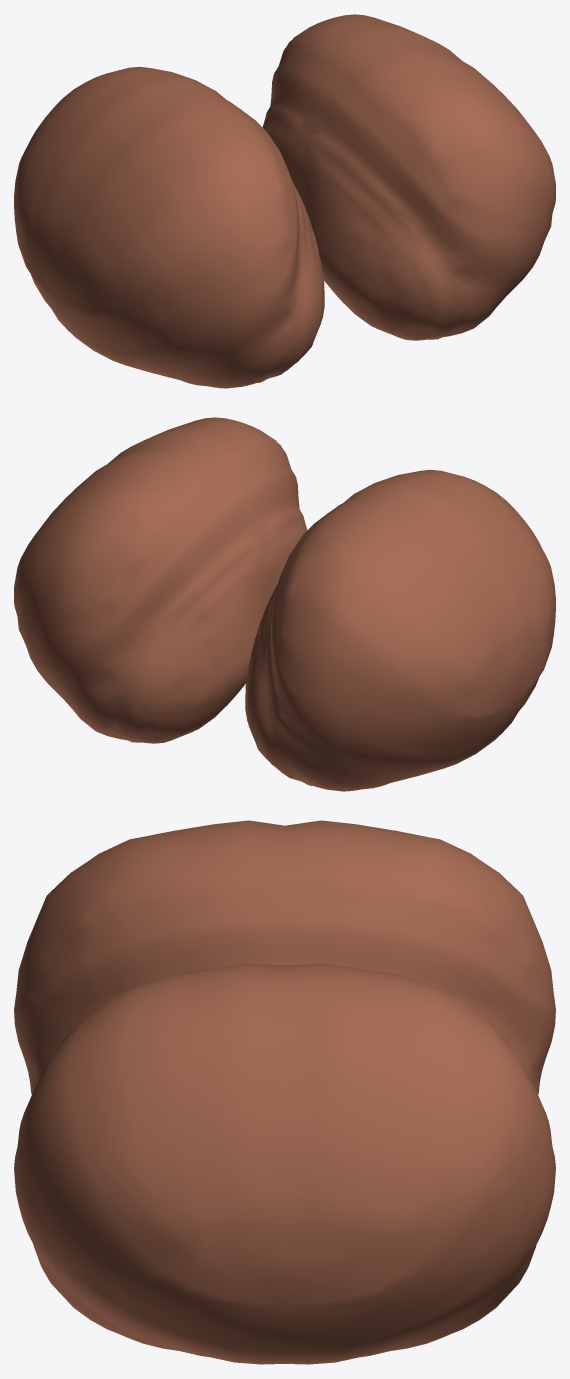
The model's file is 男性_神经系统_小脑.fbx.
The picture shows the model from 3 angles, top to bottom: view 1: azimuth 30°, elevation 25°; view 2: azimuth 150°, elevation 25°; view 3: azimuth 270°, elevation 25°; orthographic projection. The views are drawn at different scales.
Parts seen in each view (by area): view 1: 男性_神经系统_小脑; view 2: 男性_神经系统_小脑; view 3: 男性_神经系统_小脑.
Boxes of the visible parts, x1,y1,x2,y2 form: 男性_神经系统_小脑: (14, 14, 555, 388); 男性_神经系统_小脑: (14, 417, 555, 791); 男性_神经系统_小脑: (14, 820, 555, 1364).
Bounding box in the file's own units: 8.16 × 4.31 × 5.92.
